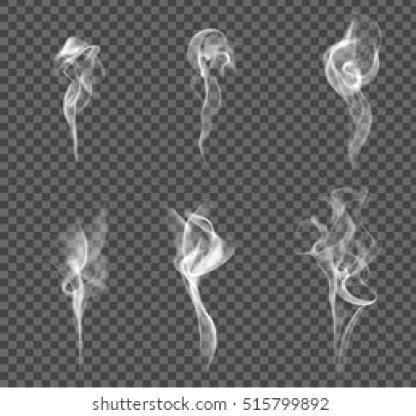smoke: (311, 190, 374, 350), (170, 208, 232, 362), (319, 29, 374, 167), (184, 27, 235, 163), (58, 222, 105, 358), (53, 38, 103, 162)
